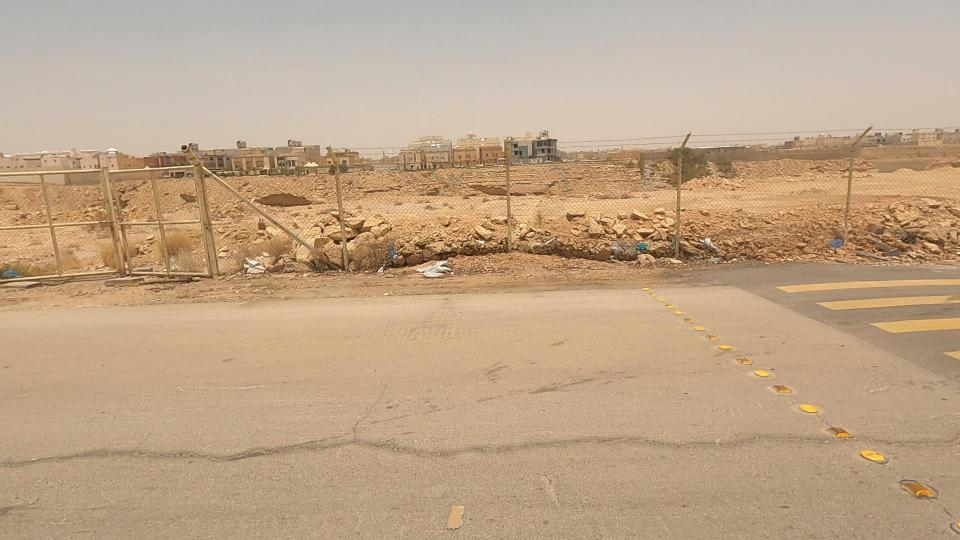GARBAGE: (194, 208, 324, 324), (332, 214, 442, 314), (781, 187, 879, 297), (580, 206, 680, 304), (664, 204, 749, 304), (381, 231, 479, 304)
